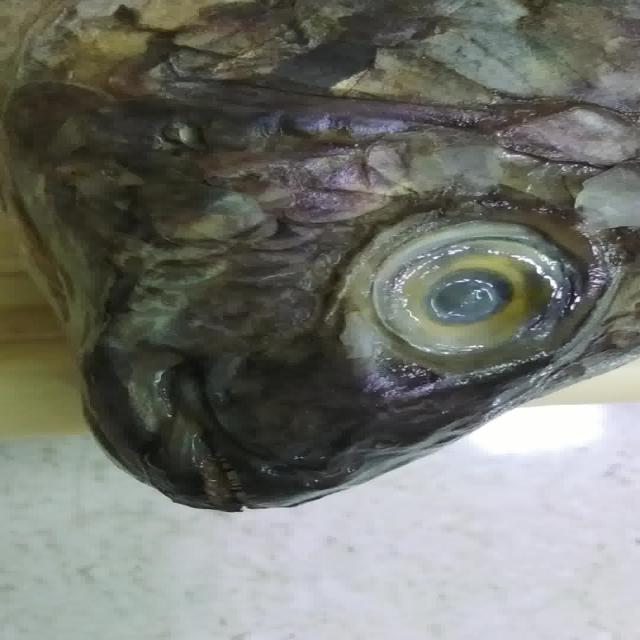Non-Fresh: (342, 204, 578, 373)
